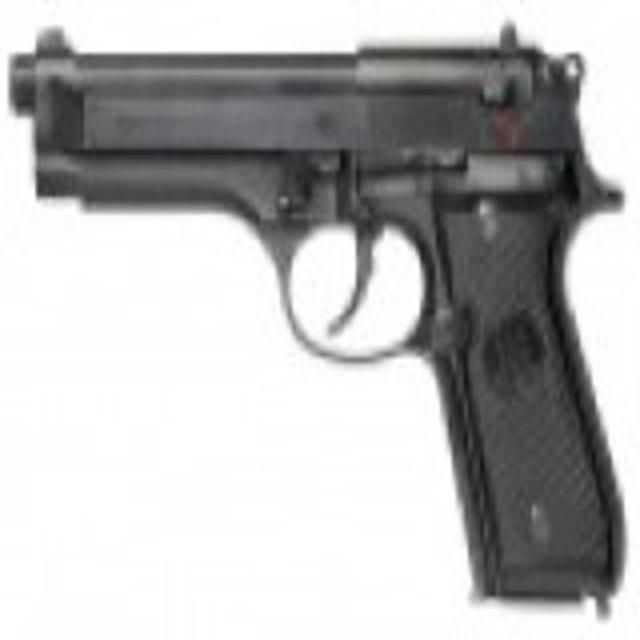pistol: (11, 15, 615, 612)
